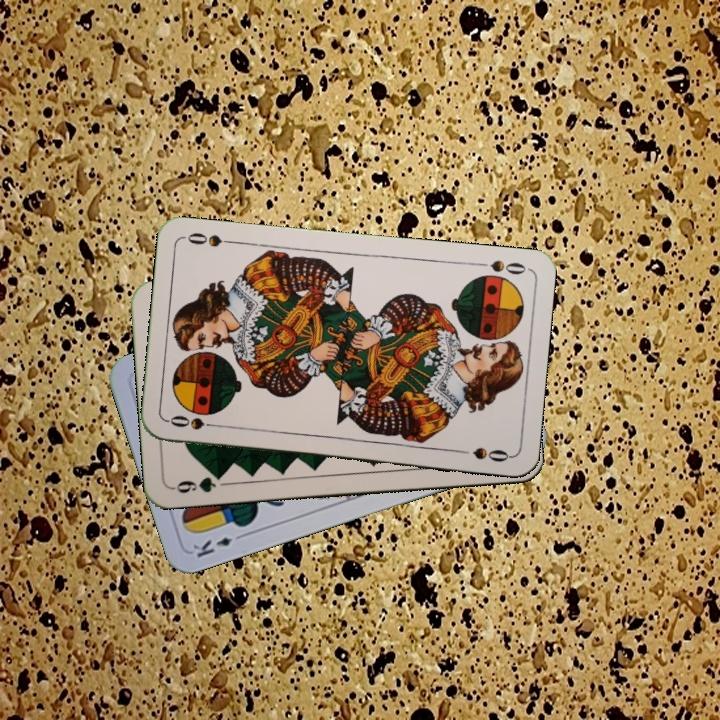EK: (188, 529, 248, 561)
G9: (169, 469, 227, 496)
SO: (165, 411, 224, 432), (471, 256, 529, 277)
